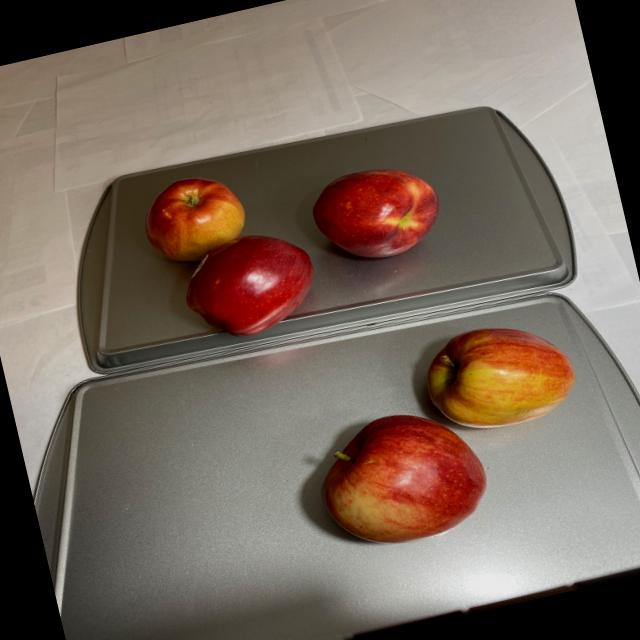apple: (284, 306, 604, 558), (134, 123, 460, 347)
